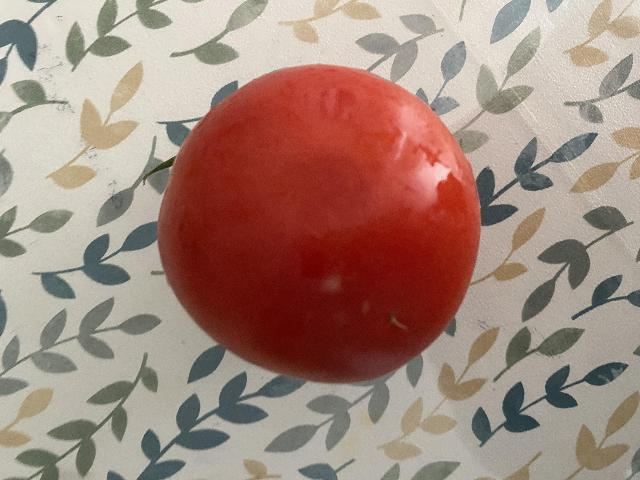Organik: (156, 65, 494, 376)
